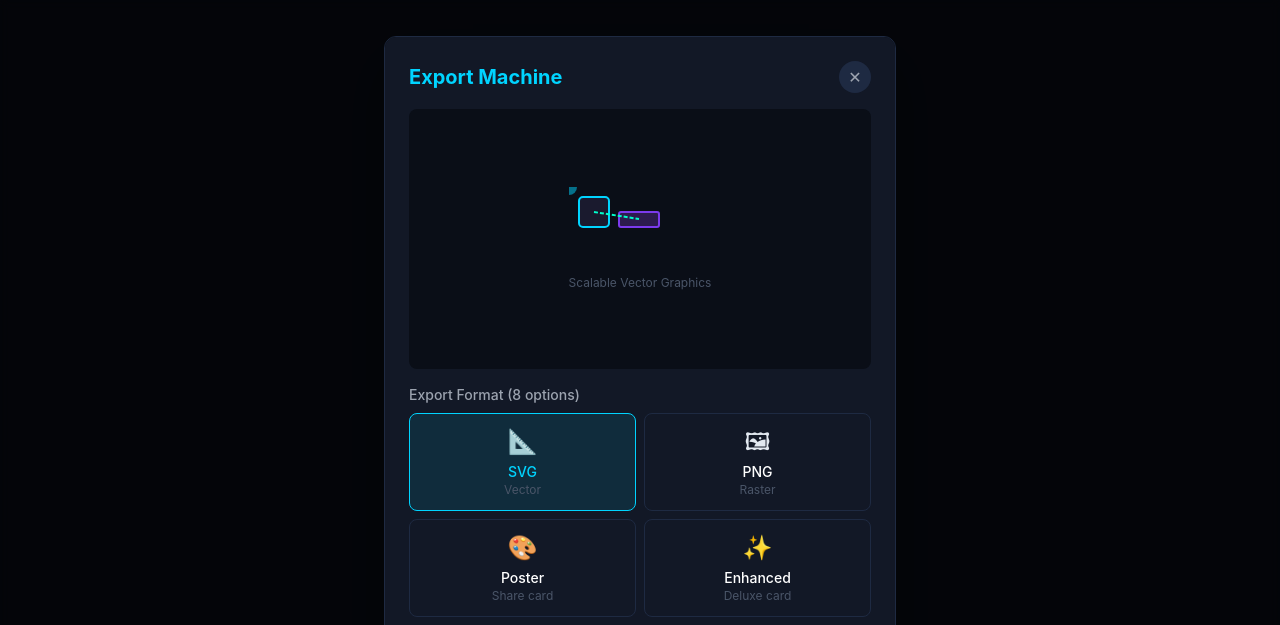
ExportModal › Round 115: Custom Dimensions › shows error for width above 2000px
The width and height of the screenshot is (1280, 625).
Click the tab "🎨 Poster Share card".
click(522, 568)  # box x1=409 y1=519 x2=636 y2=617
(page scrolled)
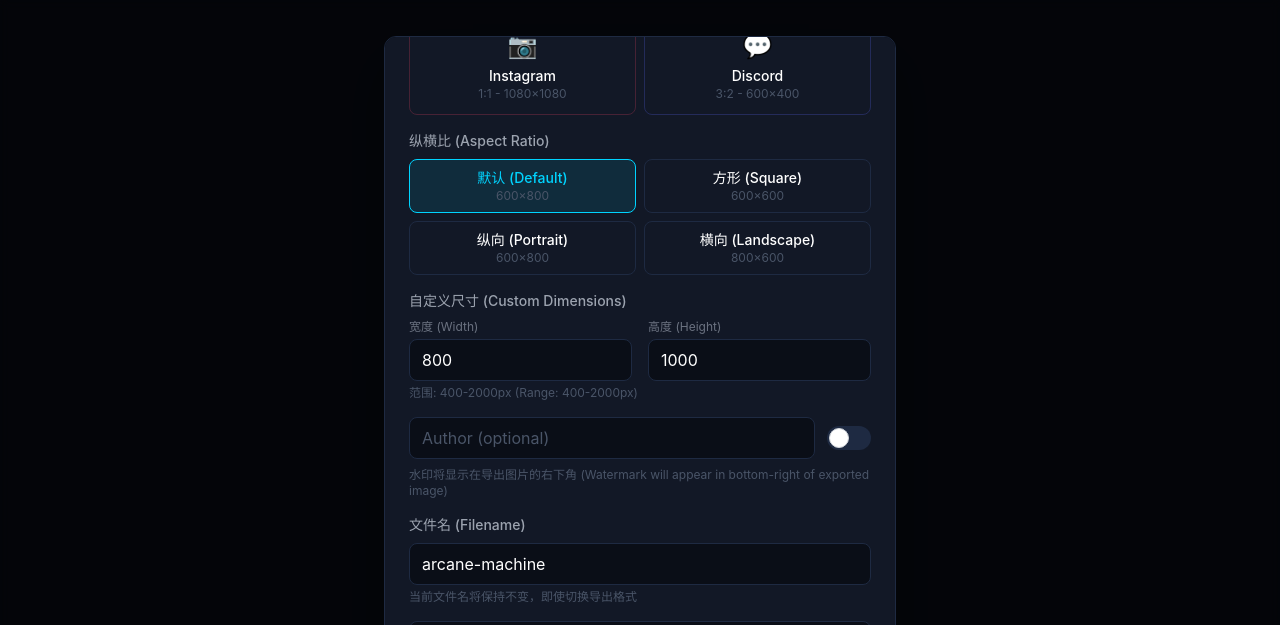
Type "2001" into the number field named "Custom width".
click(520, 360); type("2001")  # box x1=409 y1=339 x2=632 y2=381
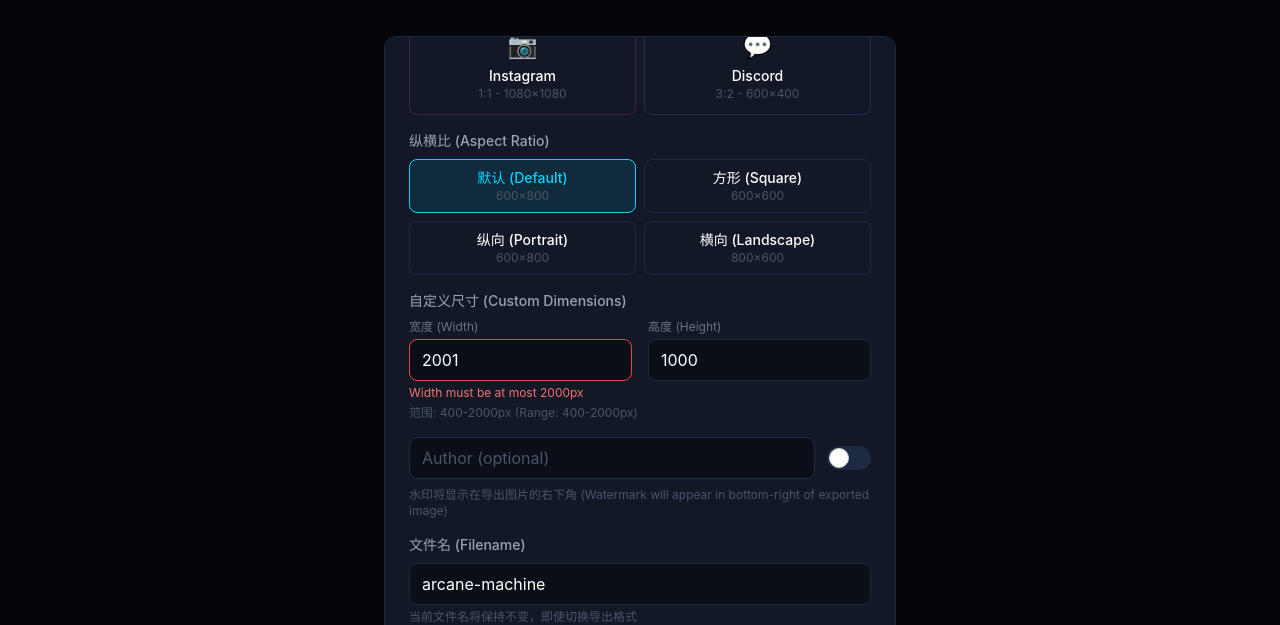
Expected: the text "Width must be at most 2000px" is shown, x1=409 y1=385 x2=584 y2=400
